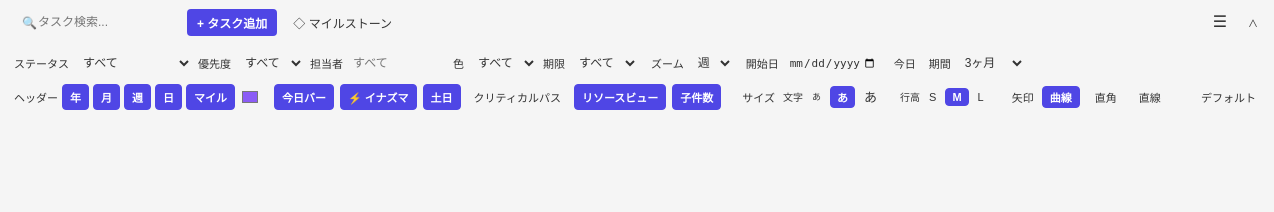
Test case: Toolbar 担当者フィルタ ピン留め › 絞り込み結果でその他が0件のときは assignee-others-section を出さない（見出しだけの空セクション防止）
Focus the dropdown named "担当者で絞り込み". click: {"x": 397, "y": 63}
box: x1=347 y1=51 x2=447 y2=75
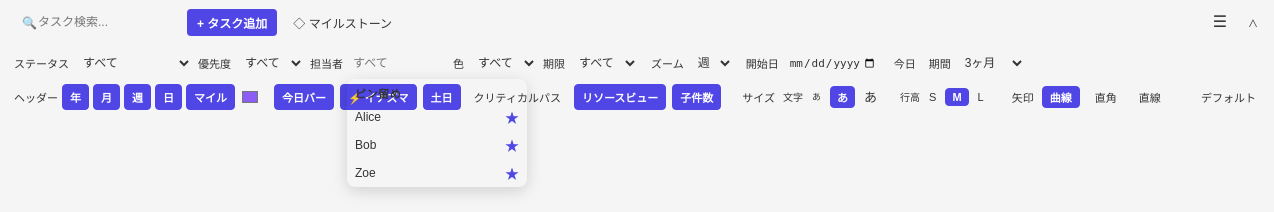
Now the text "ピン留め" is shown, box x1=355 y1=87 x2=401 y2=101
Now the number of options with test id "assignee-option" is 3, box x1=347 y1=103 x2=527 y2=131; x1=347 y1=131 x2=527 y2=159; x1=347 y1=159 x2=527 y2=187
